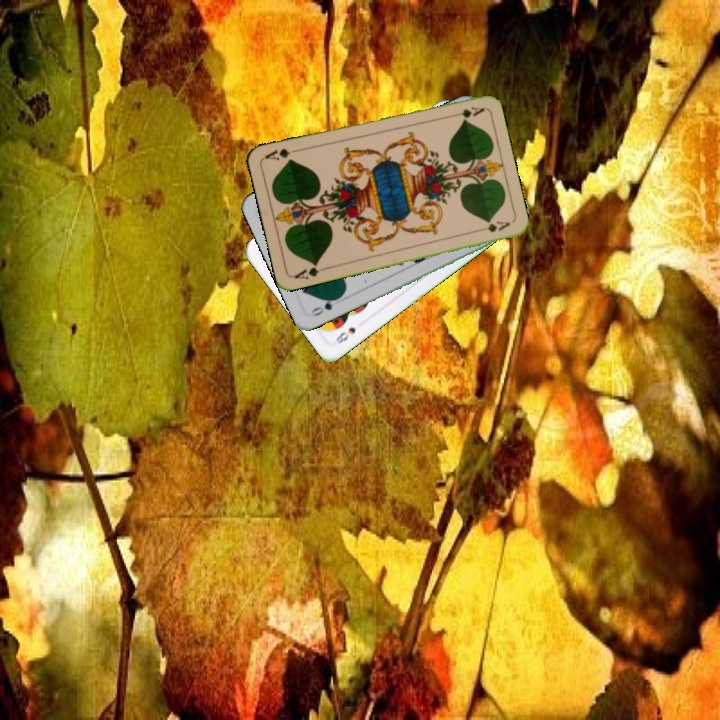GA: (290, 259, 330, 282), (446, 102, 486, 120)
GO: (307, 292, 343, 319)
S8: (331, 323, 358, 348)
